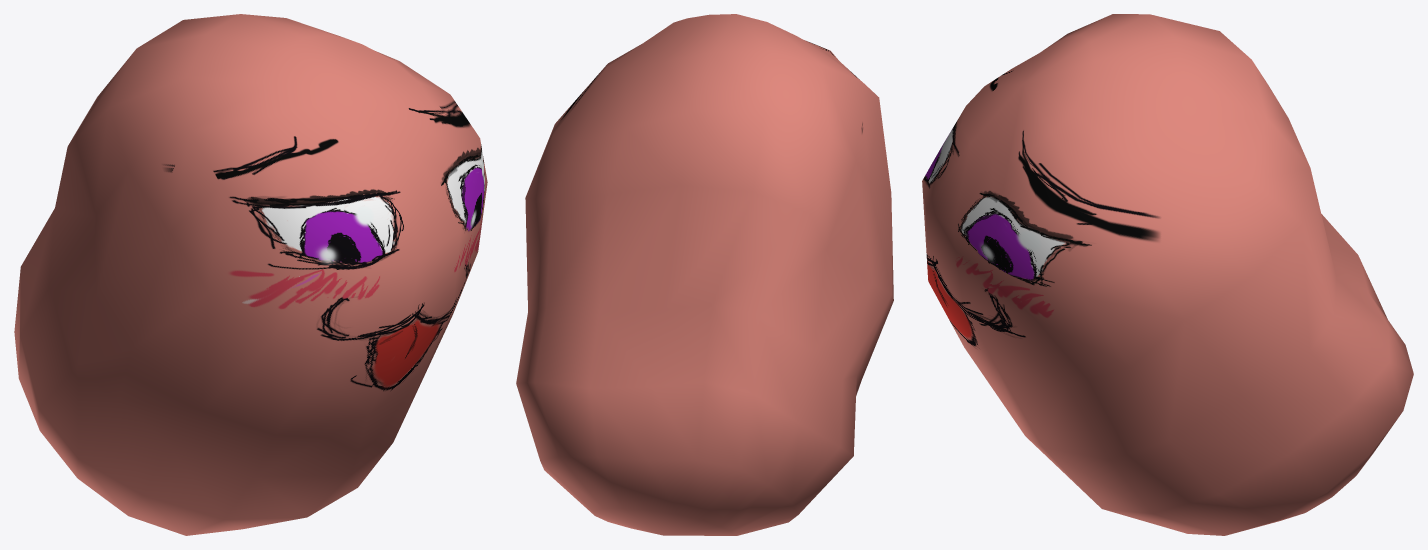
Rendered from kawaitoffel.fbx.
The picture shows the model from 3 angles, left to right: view 1: azimuth 30°, elevation 25°; view 2: azimuth 150°, elevation 25°; view 3: azimuth 270°, elevation 25°; orthographic projection. The views are drawn at different scales.
Visible parts, largest first — view 1: Sphere; view 2: Sphere; view 3: Sphere.
Part boxes in pixels (left/top/right/bottom): Sphere: left=14, top=14, right=487, bottom=535; Sphere: left=516, top=14, right=893, bottom=535; Sphere: left=922, top=14, right=1413, bottom=535.
Size of the model in its own units: 9.28 by 12.42 by 11.41.
